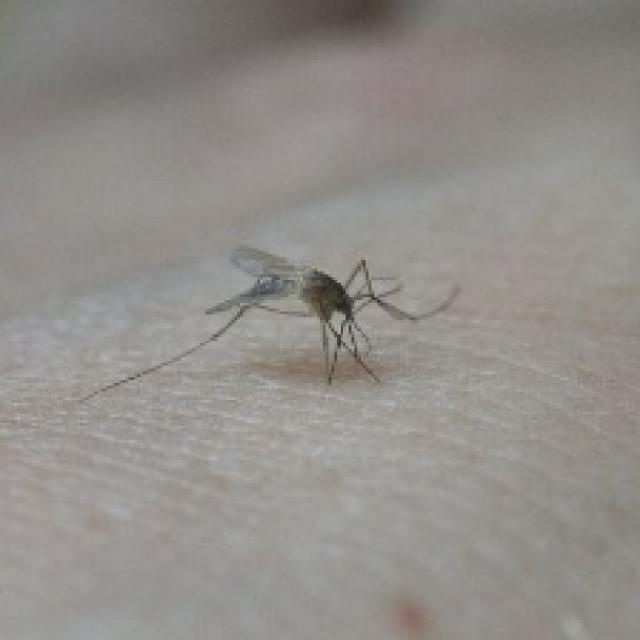culex: (74, 240, 460, 403)
